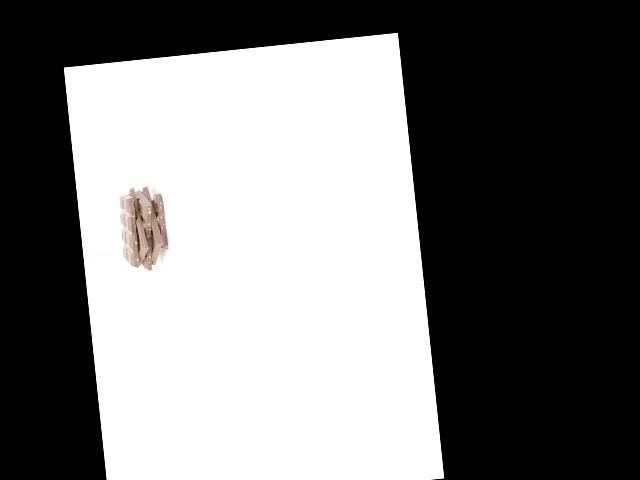chocolate: (135, 186, 174, 265)
